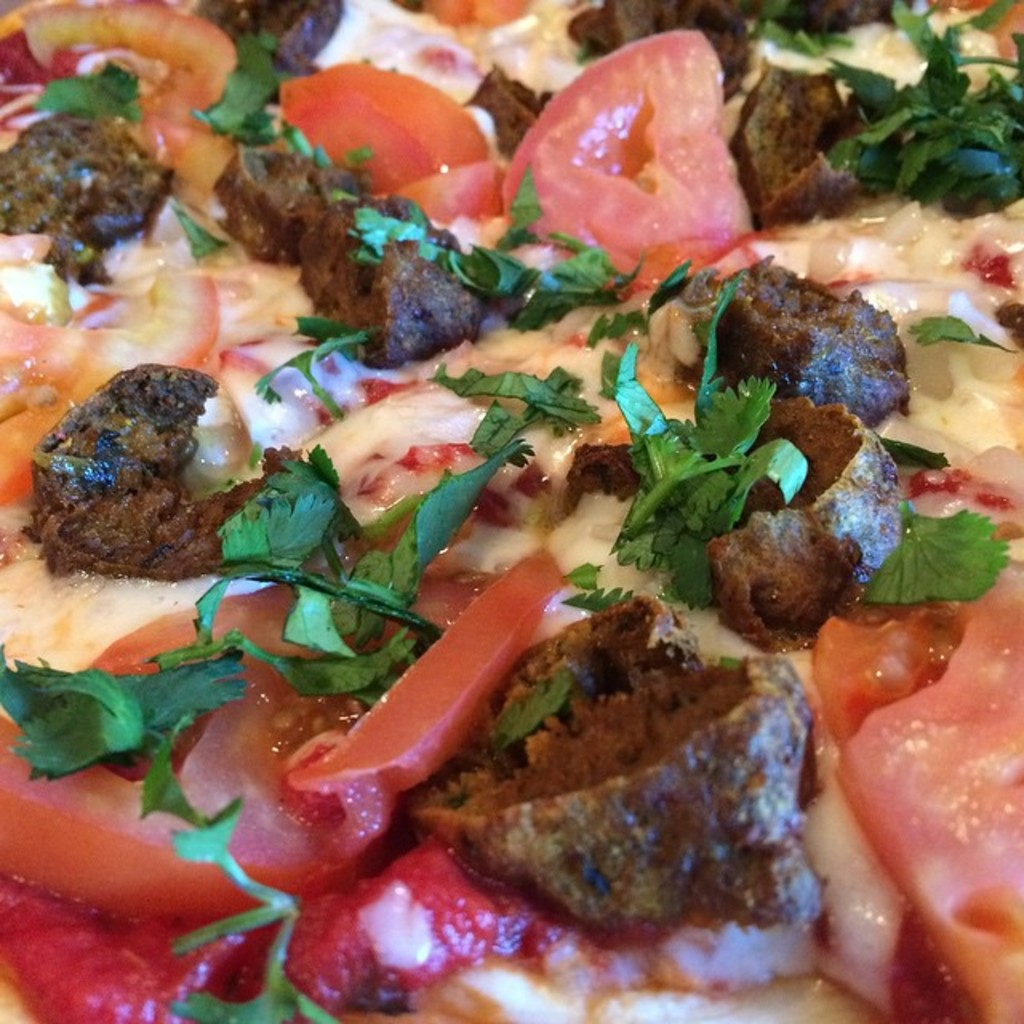Pizza: (0, 4, 1022, 1022)
